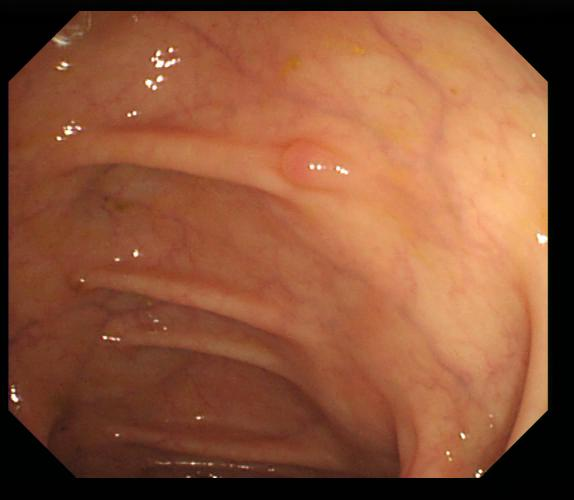polyp: (279, 133, 362, 197)
